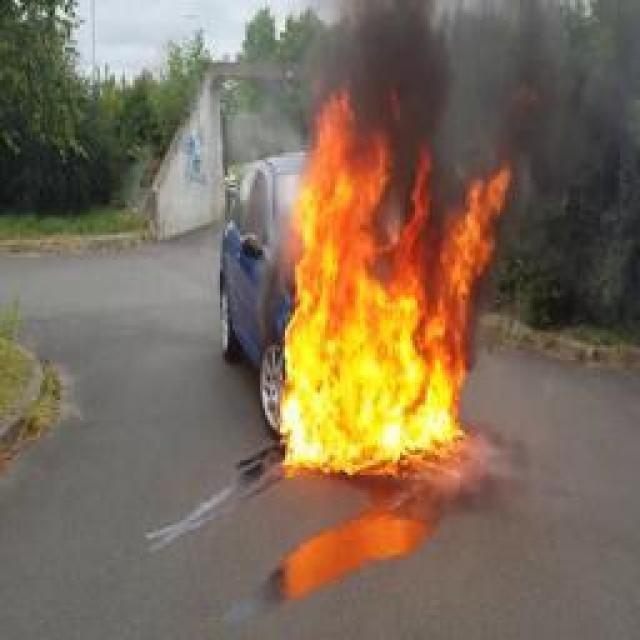Fire: (281, 84, 509, 472)
